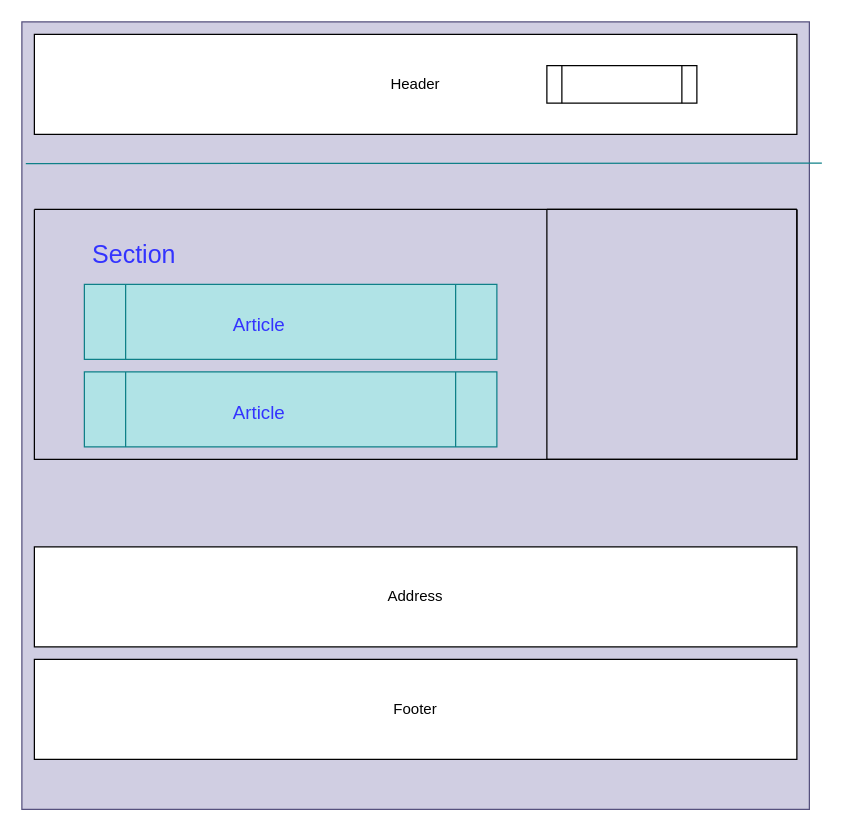
The diagram is 845 pixels wide and 831 high, and some of its shapes have lost their labels. Each missing label, with the centre of its shape:
"Aside" goes at point (671, 333).
"Nav" goes at point (621, 83).
